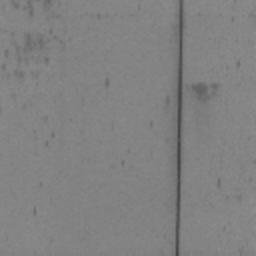Scratches: (175, 0, 184, 256), (192, 83, 207, 100)
